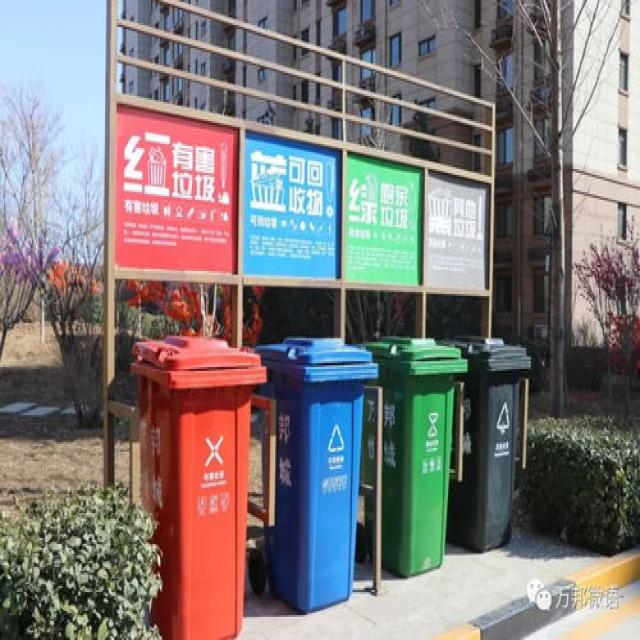garbage_bin: (128, 333, 265, 638), (255, 336, 376, 610), (362, 334, 467, 574), (446, 334, 532, 550)
